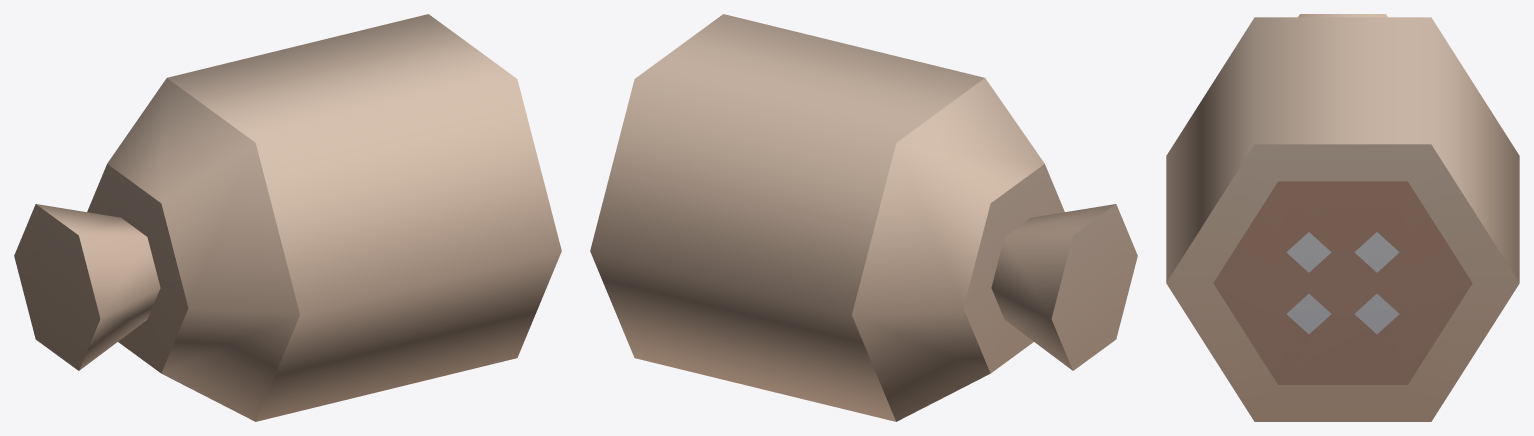
Rendered from sausage-half.glb.
3 renders of one model, left to right at view 1: azimuth 30°, elevation 25°; view 2: azimuth 150°, elevation 25°; view 3: azimuth 270°, elevation 25°, orthographic.
Parts seen in each view (by area): view 1: sausage-half; view 2: sausage-half; view 3: sausage-half.
Boxes of the visible parts, <box> form: sausage-half: <box>14,14,561,421</box>; sausage-half: <box>590,14,1137,421</box>; sausage-half: <box>1166,14,1519,421</box>.
Bounding box in the file's own units: 0.1853 × 0.1189 × 0.1373.
